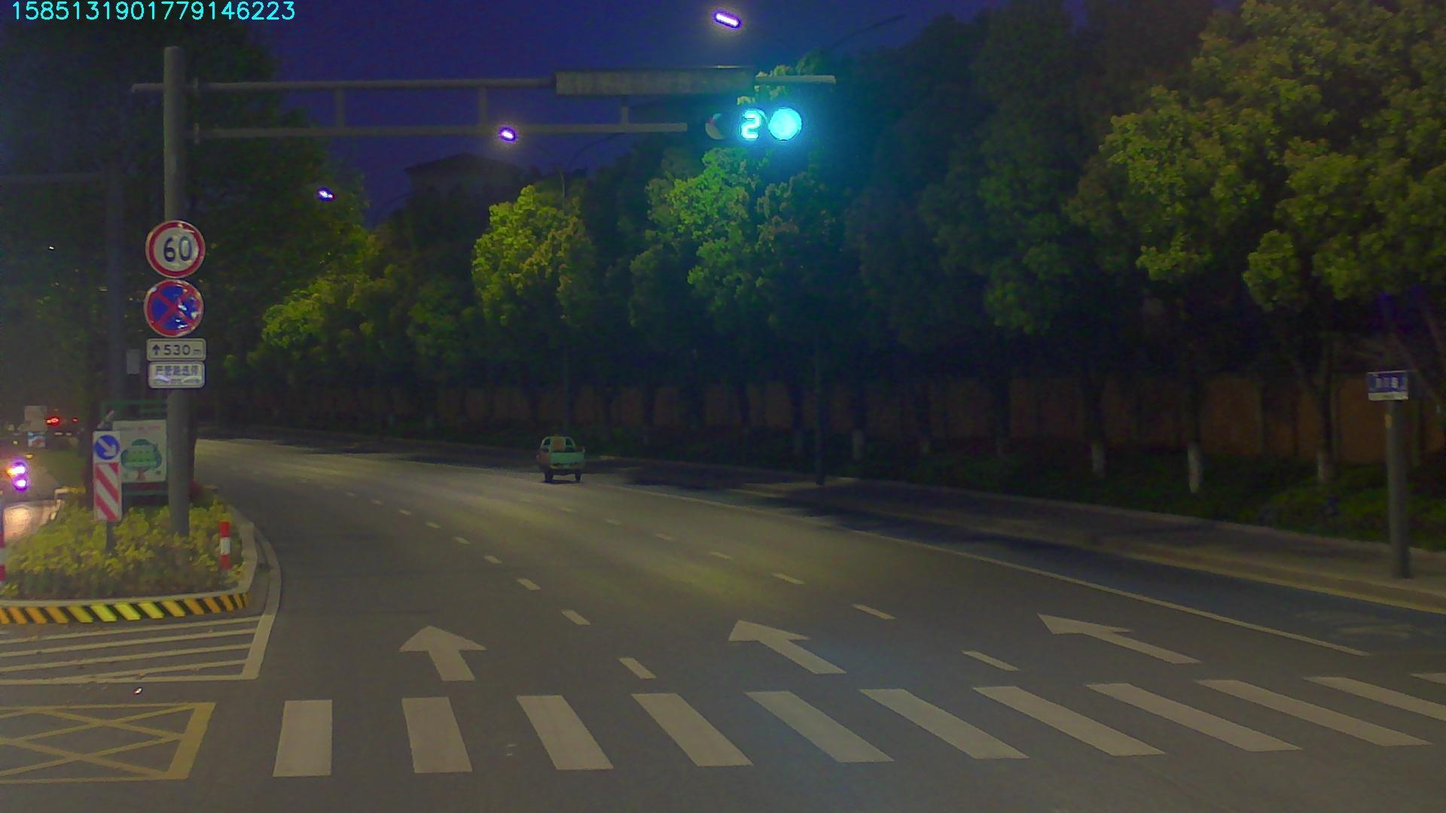green: (734, 102, 824, 157)
